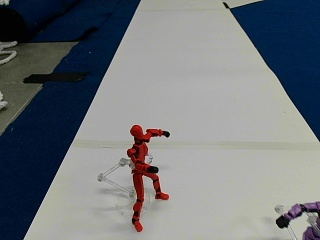pedestrian: (125, 123, 170, 228), (274, 198, 317, 236)
